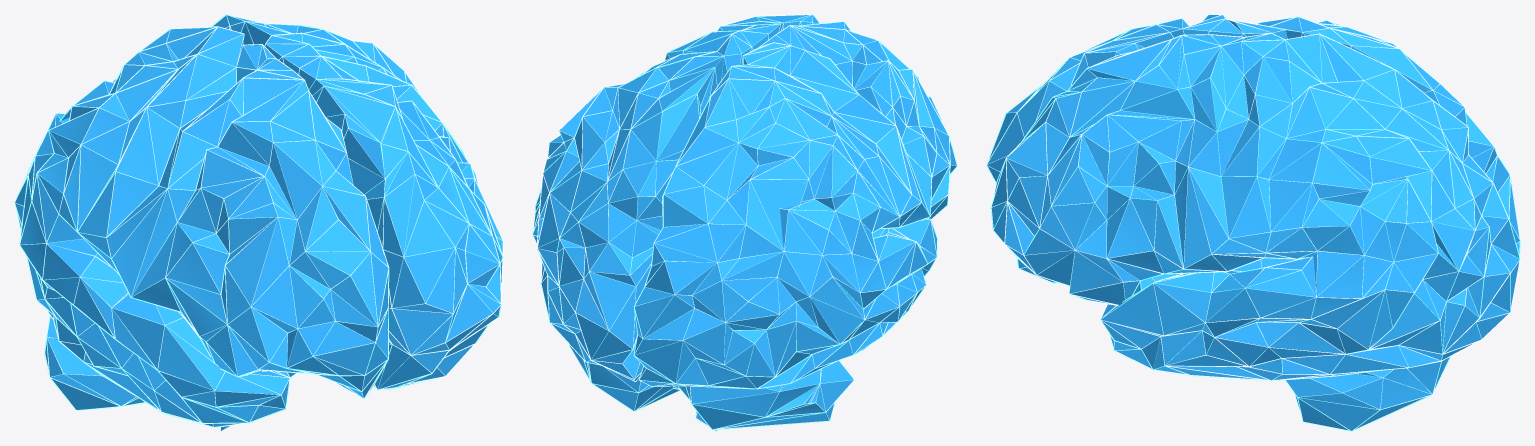
The model's file is Brain_002B.gltf.
The picture shows the model from 3 angles, left to right: view 1: azimuth 30°, elevation 25°; view 2: azimuth 150°, elevation 25°; view 3: azimuth 270°, elevation 25°; orthographic projection. The views are drawn at different scales.
Parts seen in each view (by area): view 1: Brain_Part_06.002_Mesh.001, Brain_Part_06.002_Mesh.011, Brain_Part_04.002_Mesh.009, Brain_Part_02.002_Mesh.007; view 2: Brain_Part_06.002_Mesh.001, Brain_Part_06.002_Mesh.011, Brain_Part_04.002_Mesh.009, Brain_Part_02.002_Mesh.007; view 3: Brain_Part_06.002_Mesh.001, Brain_Part_04.002_Mesh.009, Brain_Part_06.002_Mesh.011, Brain_Part_02.002_Mesh.007.
Part boxes in pixels (bbox=[...]): Brain_Part_06.002_Mesh.001: bbox=[15, 15, 502, 430]; Brain_Part_06.002_Mesh.011: bbox=[14, 26, 389, 427]; Brain_Part_04.002_Mesh.009: bbox=[211, 14, 503, 390]; Brain_Part_02.002_Mesh.007: bbox=[44, 316, 146, 410]; Brain_Part_06.002_Mesh.001: bbox=[533, 15, 956, 430]; Brain_Part_06.002_Mesh.011: bbox=[633, 21, 957, 389]; Brain_Part_04.002_Mesh.009: bbox=[532, 14, 819, 381]; Brain_Part_02.002_Mesh.007: bbox=[568, 344, 854, 430]; Brain_Part_06.002_Mesh.001: bbox=[987, 15, 1519, 430]; Brain_Part_04.002_Mesh.009: bbox=[990, 33, 1520, 381]; Brain_Part_06.002_Mesh.011: bbox=[986, 14, 1520, 266]; Brain_Part_02.002_Mesh.007: bbox=[1285, 355, 1451, 431].
Size of the model in its own units: 4.71 by 4.8 by 5.97.
